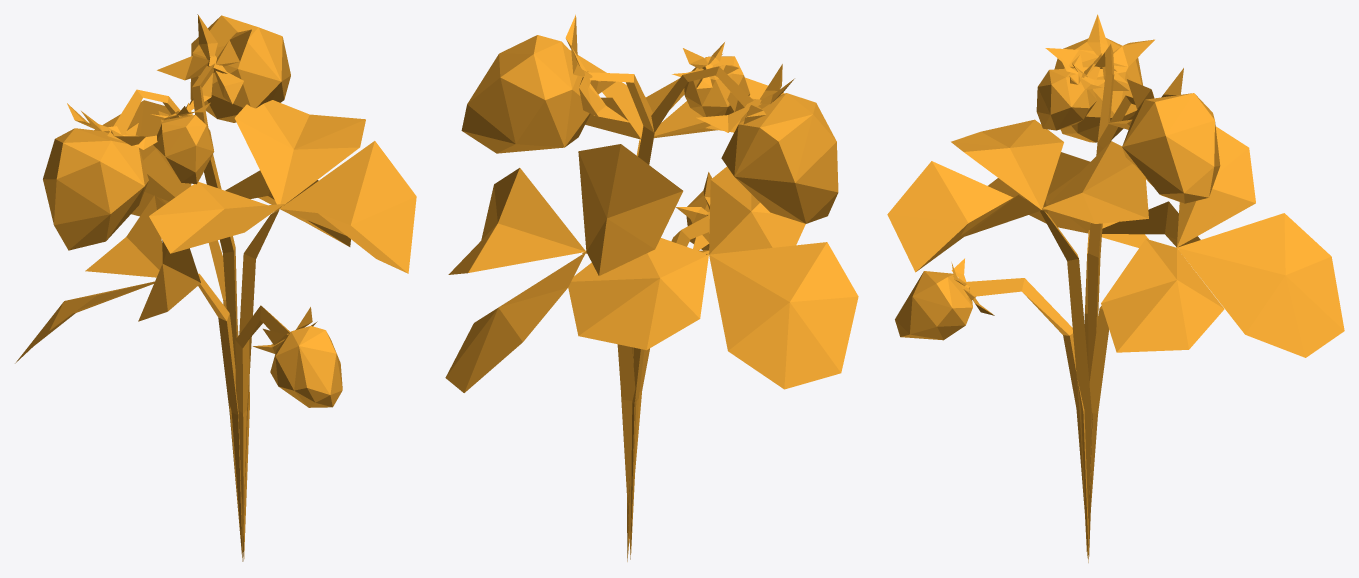
File: SM_Strawberry_Plant_Ripe_A.fbx
3 views of the same model, side by side, from view 1: azimuth 30°, elevation 25°; view 2: azimuth 150°, elevation 25°; view 3: azimuth 270°, elevation 25° (orthographic). The views are drawn at different scales.
Parts seen in each view (by area): view 1: strawberry-plant-ripe-a; view 2: strawberry-plant-ripe-a; view 3: strawberry-plant-ripe-a.
Part boxes in pixels (x1,y1,x2,y2): strawberry-plant-ripe-a: (15,14,416,561); strawberry-plant-ripe-a: (445,14,858,561); strawberry-plant-ripe-a: (887,14,1344,562).
Size of the model in its own units: 0.2302 by 0.3334 by 0.2775.
